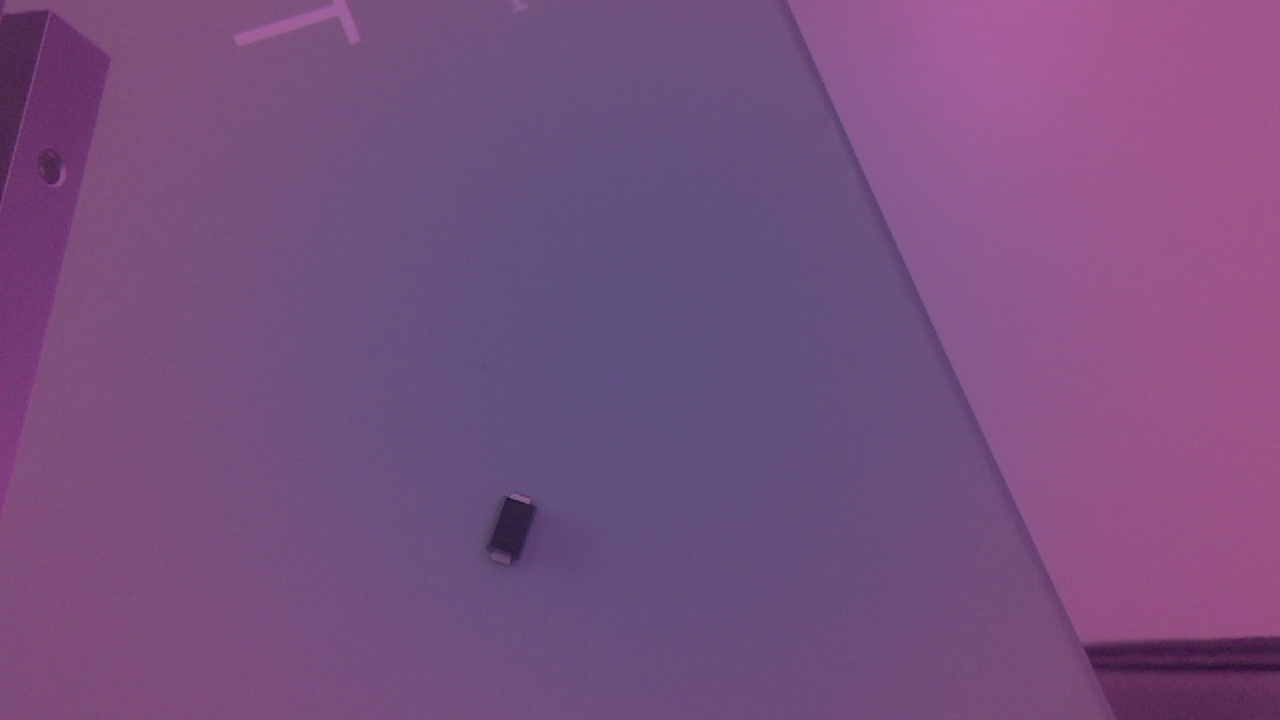Diode: (485, 492, 550, 574)
